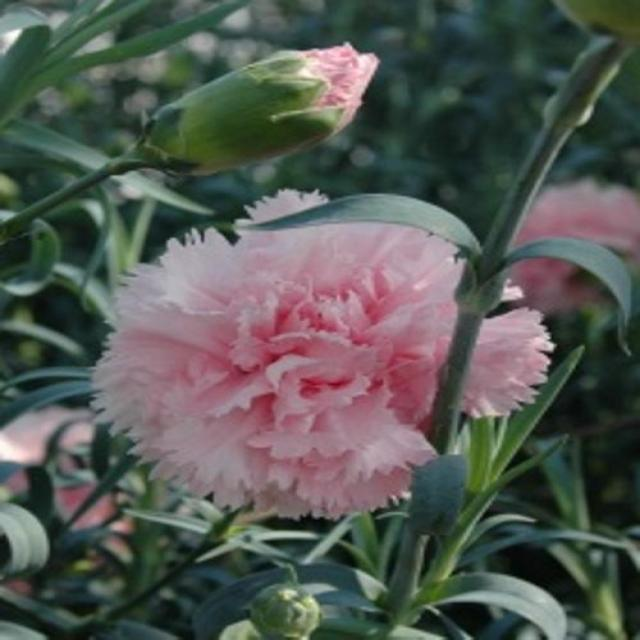carnation: (93, 200, 549, 508)
